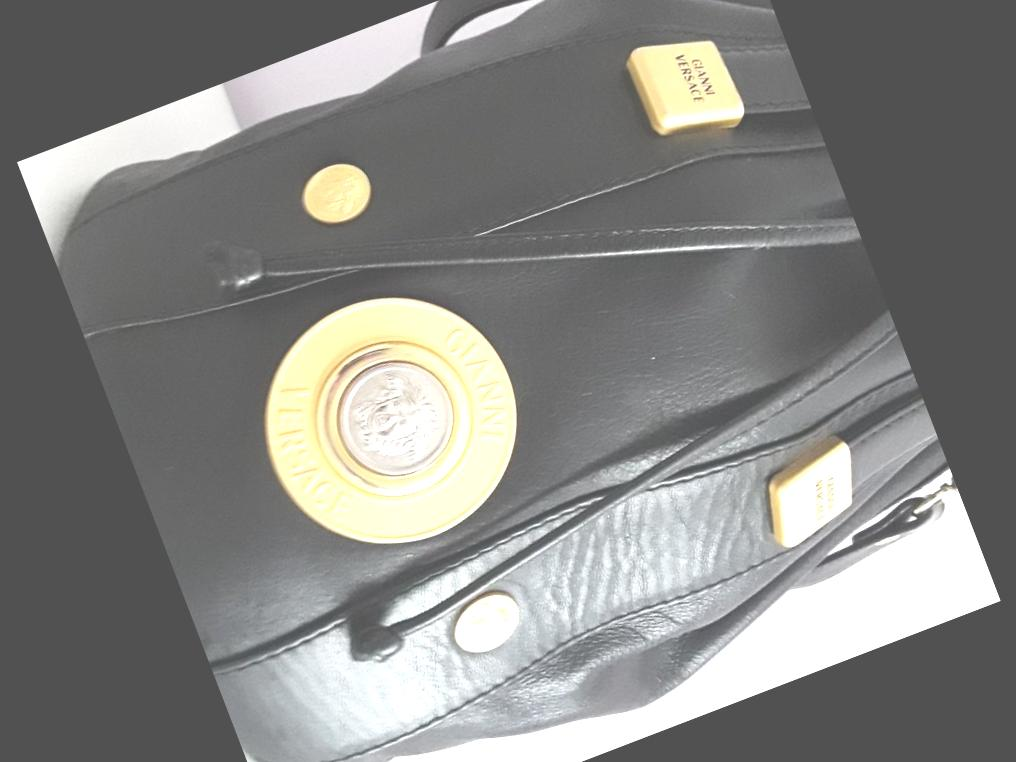VERSACE: (292, 320, 493, 520)
